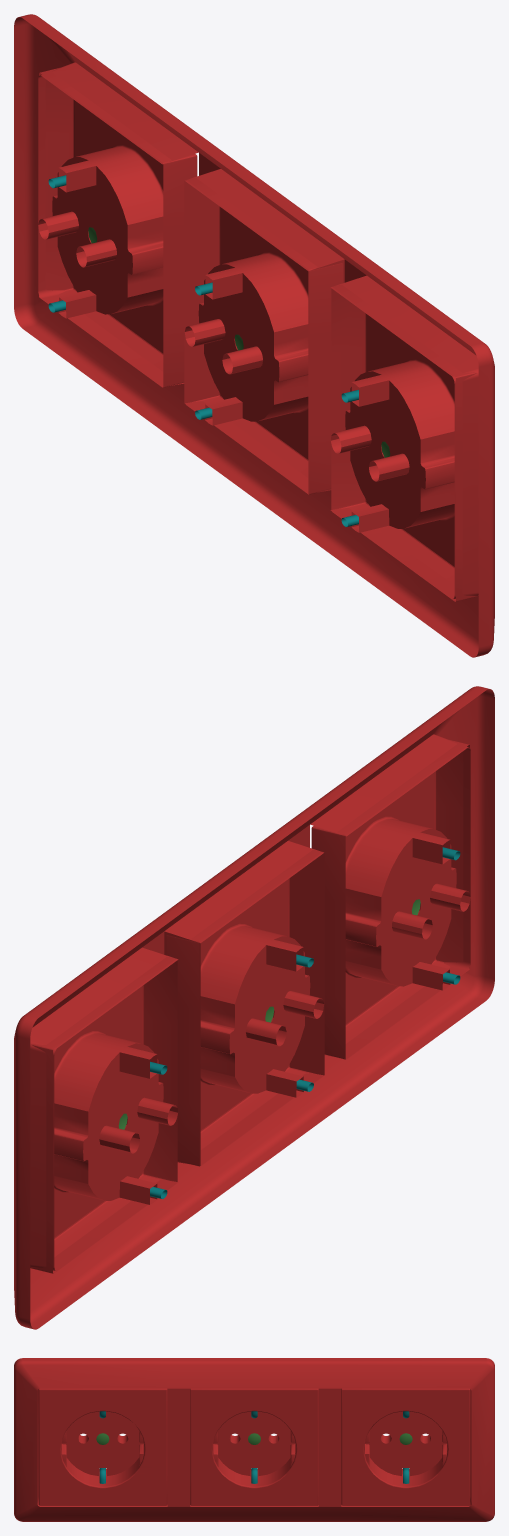
Rendered from SM_Socket_023.fbx.
3 renders of one model, top to bottom at view 1: azimuth 30°, elevation 25°; view 2: azimuth 150°, elevation 25°; view 3: azimuth 270°, elevation 25°, orthographic. The views are drawn at different scales.
Parts seen in each view (by area): view 1: SM_Socket_023; view 2: SM_Socket_023; view 3: SM_Socket_023.
Boxes of the visible parts, x1=… form: SM_Socket_023: x1=14, y1=14, x2=494, y2=657; SM_Socket_023: x1=14, y1=686, x2=494, y2=1329; SM_Socket_023: x1=14, y1=1358, x2=494, y2=1521.
Size of the model in its own units: 2.3 by 8.05 by 21.84.
